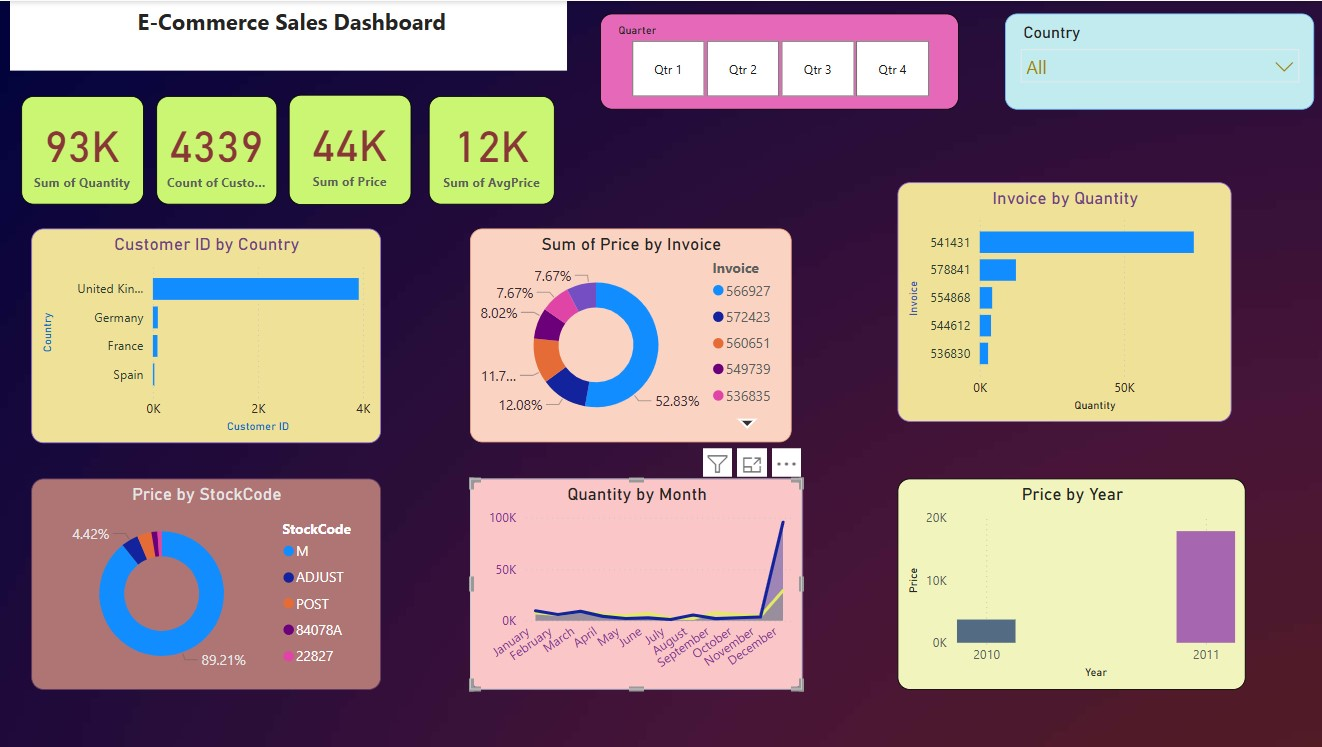

The page's visual inventory and layout, read from the dashboard file:
{"tool":"powerbi","page":{"name":"Page 1","canvas":[1280,720],"ordinal":0},"visuals":[{"type":"textbox","box":[9.6,0,537.9,67.2],"z":0},{"type":"areaChart","title":"Quantity by Month","fields":{"Category":["Year 2009-2010.InvoiceDate.Variation.Date Hierarchy.Month"],"Y":["Sum(Year 2009-2010.Quantity)","Sum(Year 2010-2011.Quantity)"]},"box":[453.8,461.2,321.2,203.8],"z":1000},{"type":"clusteredBarChart","title":"Customer ID by Country","fields":{"Y":["CountNonNull(Year 2010-2011.Customer ID)"],"Category":["Year 2010-2011.Country"]},"box":[30,220,337.5,207.5],"z":2000},{"type":"donutChart","title":"Price by StockCode","fields":{"Category":["Year 2009-2010.StockCode"],"Y":["Sum(Year 2009-2010.Price)"]},"box":[30,461.2,337.5,203.8],"z":3000},{"type":"donutChart","fields":{"Category":["Year 2010-2011.Invoice"],"Y":["Sum(Year 2010-2011.Price)"]},"box":[453.8,220,310,206.2],"z":4000},{"type":"slicer","fields":{"Values":["Year 2010-2011.Country"]},"box":[970,12.5,298.8,92.5],"z":5000},{"type":"card","fields":{"Values":["Sum(Year 2009-2010.Quantity)"]},"box":[20.5,91.7,118.2,105],"z":6000},{"type":"card","fields":{"Values":["Sum(Year 2009-2010.Price)"]},"box":[278.7,90.5,118.2,106.2],"z":7000},{"type":"card","fields":{"Values":["CountNonNull(Year 2010-2011.Customer ID)"]},"box":[150.8,91.7,117,105],"z":8000},{"type":"card","fields":{"Values":["Sum(Year 2010-2011.AvgPrice)"]},"box":[413.8,91.7,121.9,105],"z":9000},{"type":"clusteredBarChart","title":"Invoice by Quantity","fields":{"Category":["Year 2010-2011.Invoice"],"Y":["Sum(Year 2010-2011.Quantity)"]},"box":[866.2,175,322.5,231.2],"z":10000},{"type":"slicer","fields":{"Values":["Year 2009-2010.InvoiceDate.Variation.Date Hierarchy.Quarter"]},"box":[578.8,12.5,346.2,92.5],"z":11000},{"type":"columnChart","title":"Price by Year","fields":{"Category":["Year 2010-2011.InvoiceDate.Variation.Date Hierarchy.Year"],"Y":["Sum(Year 2010-2011.Price)"]},"box":[866.2,461.2,336.2,203.8],"z":12000}]}

Visuals, with their boxes in screenshot pixels (x1, y1, x2, y2), scaled from the page's 1280x720 canvas onto the 1322x747 screenshot:
textbox: region(10, 0, 565, 70)
"Quantity by Month" areaChart: region(469, 478, 800, 690)
"Customer ID by Country" clusteredBarChart: region(31, 228, 380, 444)
"Price by StockCode" donutChart: region(31, 478, 380, 690)
donutChart - Year 2010-2011.Invoice x Sum(Year 2010-2011.Price): region(469, 228, 789, 442)
slicer - Year 2010-2011.Country: region(1002, 13, 1310, 109)
card - Sum(Year 2009-2010.Quantity): region(21, 95, 143, 204)
card - Sum(Year 2009-2010.Price): region(288, 94, 410, 204)
card - CountNonNull(Year 2010-2011.Customer ID): region(156, 95, 277, 204)
card - Sum(Year 2010-2011.AvgPrice): region(427, 95, 553, 204)
"Invoice by Quantity" clusteredBarChart: region(895, 182, 1228, 421)
slicer - Year 2009-2010.InvoiceDate.Variation.Date Hierarchy.Quarter: region(598, 13, 955, 109)
"Price by Year" columnChart: region(895, 478, 1242, 690)
